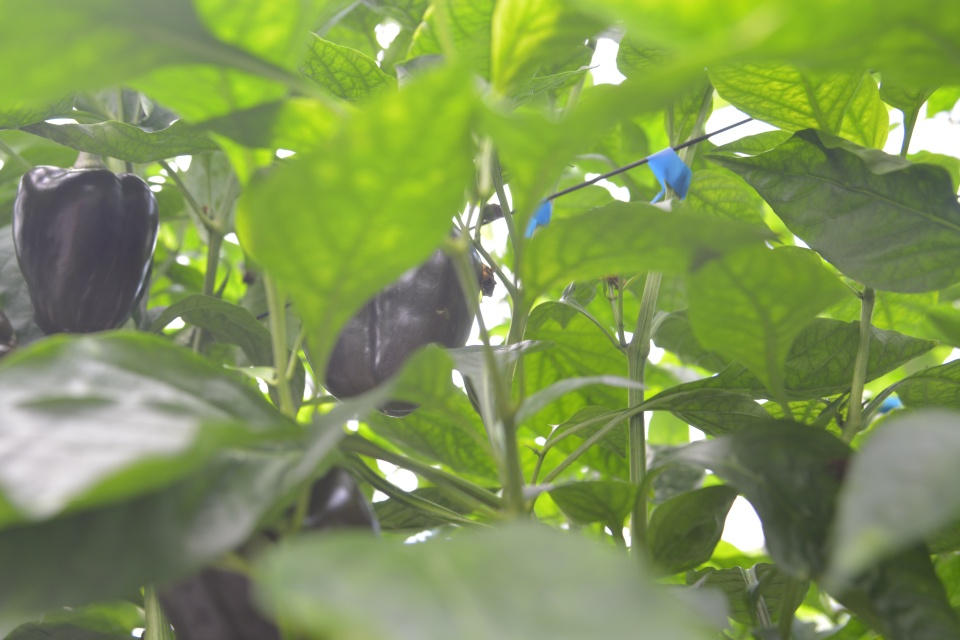fruit: (157, 464, 381, 640), (301, 230, 480, 417), (12, 166, 160, 336)
